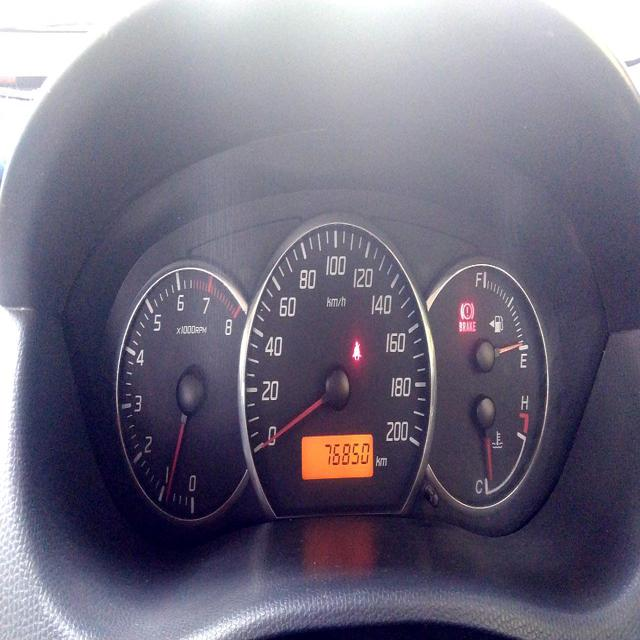odometer: (324, 437, 370, 468)
